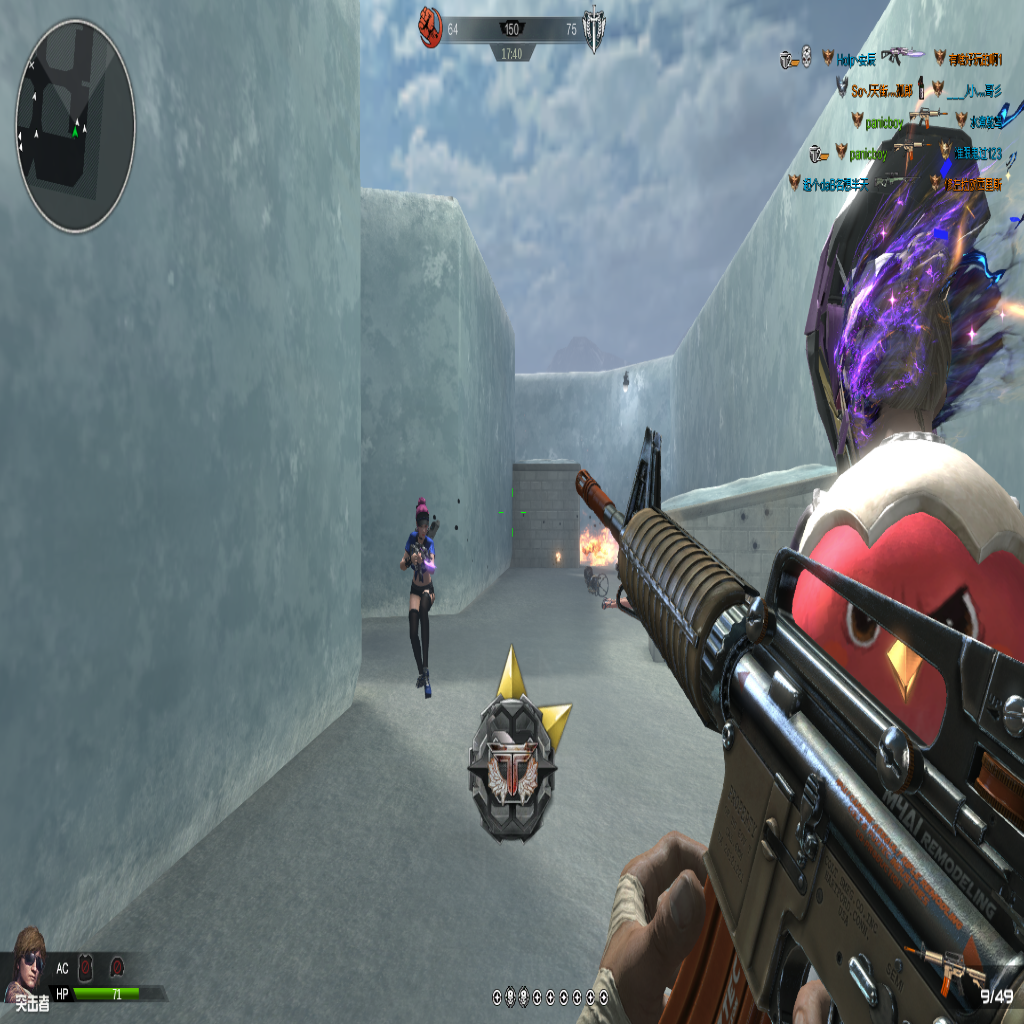ct: (401, 503, 435, 696)
